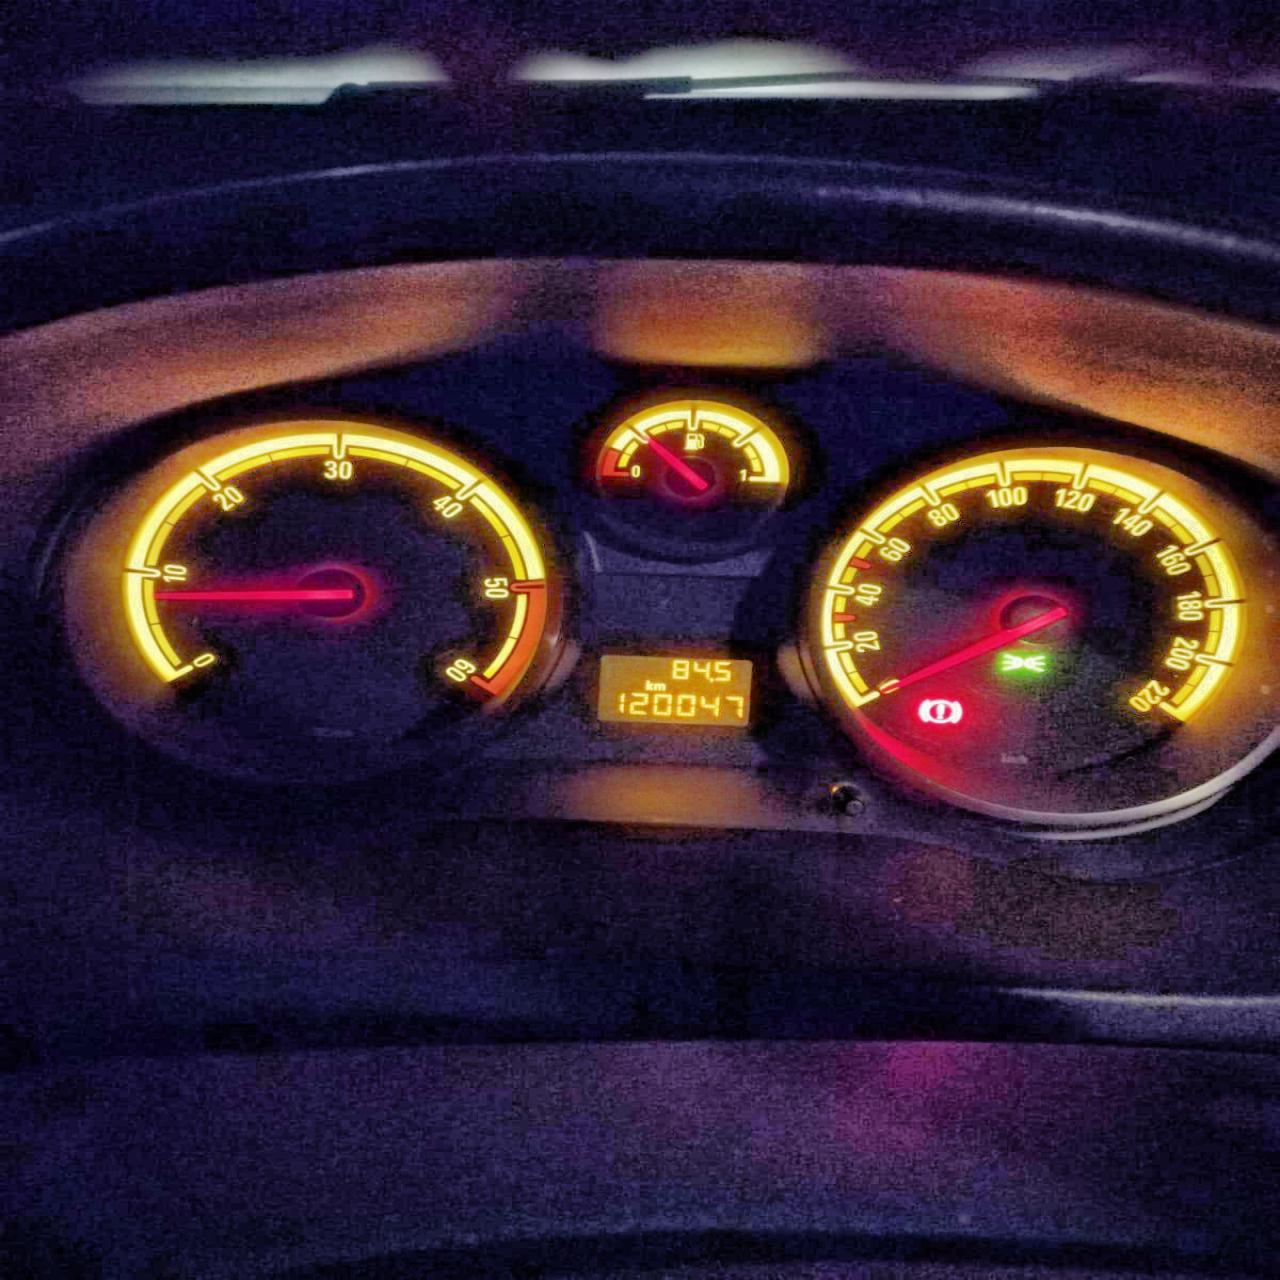-: (708, 676, 713, 682)
0: (675, 694, 696, 716), (652, 693, 670, 715)
1: (618, 692, 625, 713)
2: (627, 693, 648, 714)
4: (699, 695, 720, 716), (693, 661, 710, 679)
5: (713, 661, 730, 681)
7: (724, 696, 743, 717)
8: (670, 659, 689, 679)
X: (653, 682, 666, 690), (645, 679, 653, 689)
odometer: (593, 653, 755, 728)
